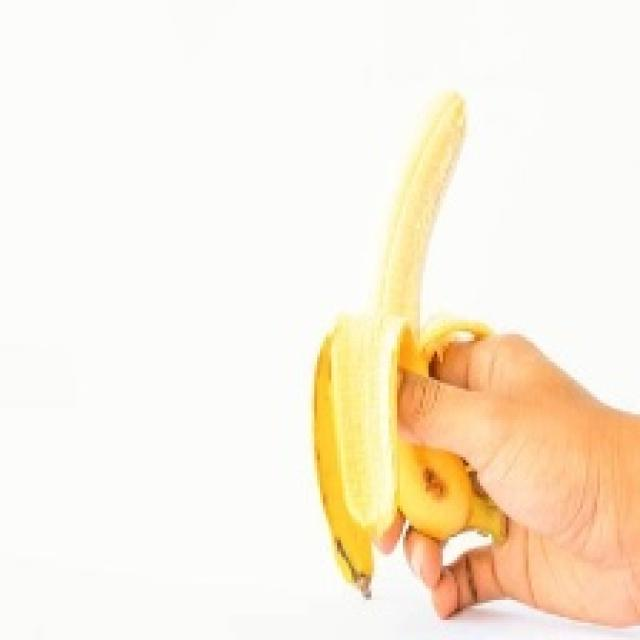Banana: (308, 89, 508, 597)
